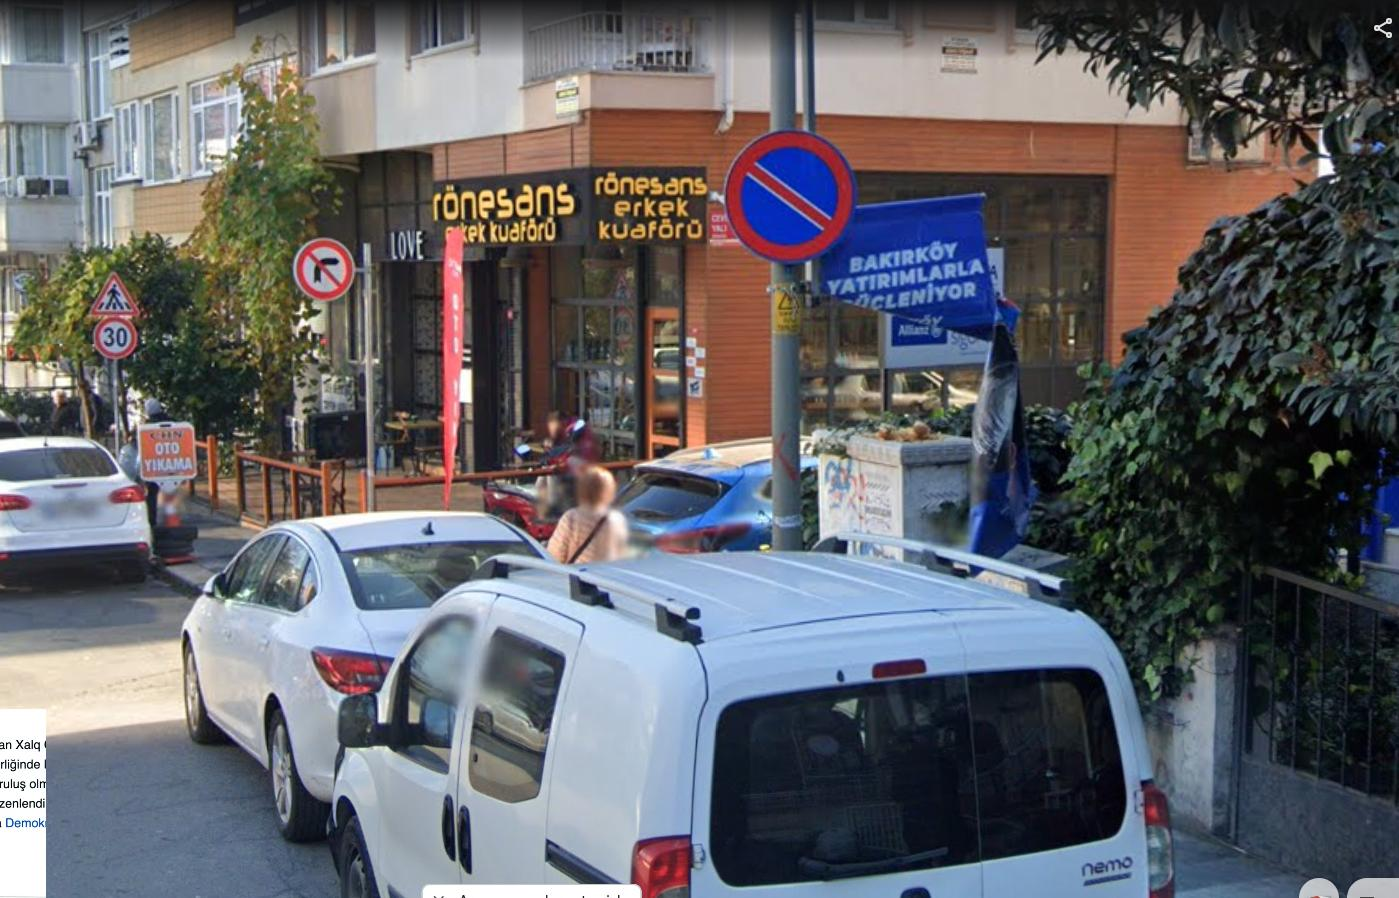nopark: (732, 130, 853, 259)
rightturnsareforbidden: (300, 241, 351, 293)
